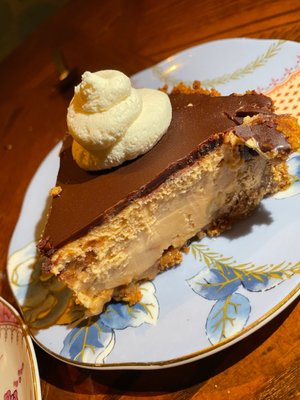pasta: (66, 69, 173, 170)
soup: (36, 95, 299, 322)
